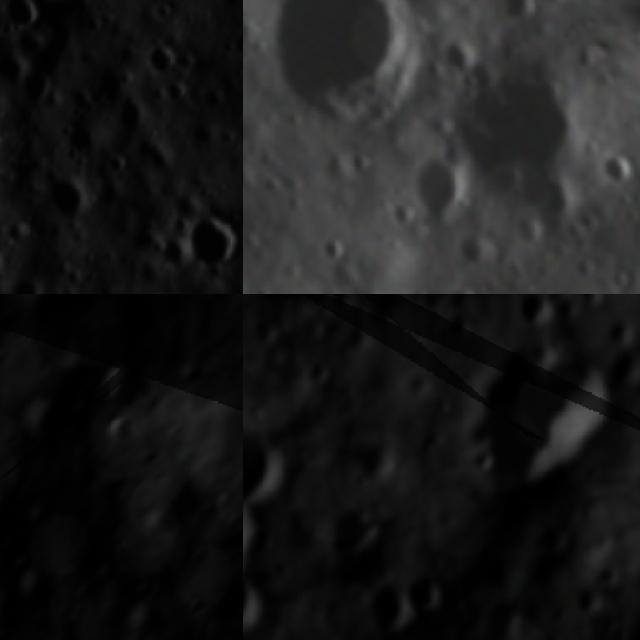crater: (411, 12, 640, 255), (243, 0, 468, 159), (452, 337, 616, 483), (23, 144, 118, 239), (394, 138, 486, 230), (165, 193, 243, 290), (2, 47, 71, 116), (243, 410, 288, 504), (10, 392, 73, 458), (84, 356, 154, 414), (429, 22, 486, 83), (323, 496, 381, 553), (128, 28, 184, 86), (11, 563, 67, 616), (359, 576, 405, 639), (0, 0, 56, 51), (307, 220, 359, 273), (590, 136, 640, 191), (347, 429, 398, 482), (502, 204, 553, 255), (447, 225, 496, 277), (404, 564, 449, 617), (485, 0, 548, 37), (379, 192, 424, 238), (137, 496, 181, 542), (0, 262, 57, 294), (341, 141, 383, 184), (101, 409, 140, 450), (243, 493, 261, 573), (243, 573, 264, 638), (218, 17, 243, 69), (0, 233, 16, 294), (436, 276, 490, 294), (339, 278, 397, 294), (516, 0, 567, 17), (399, 280, 440, 294)
